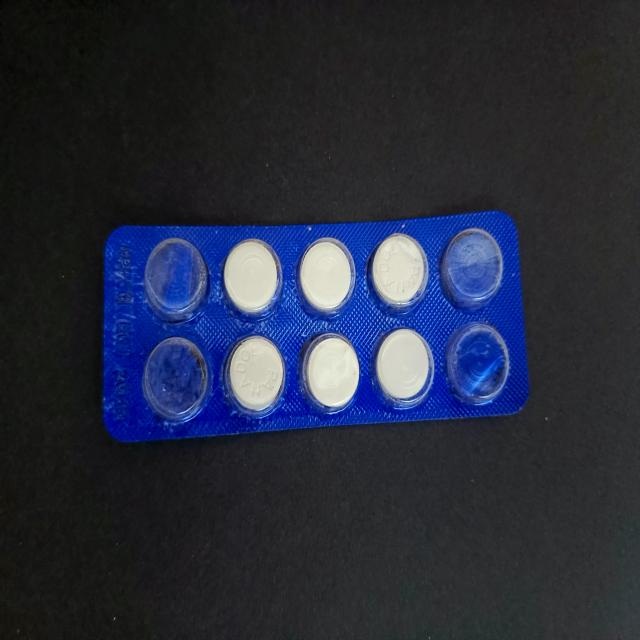defect: (141, 334, 215, 427), (143, 234, 211, 326), (438, 224, 506, 314), (442, 321, 512, 408)
